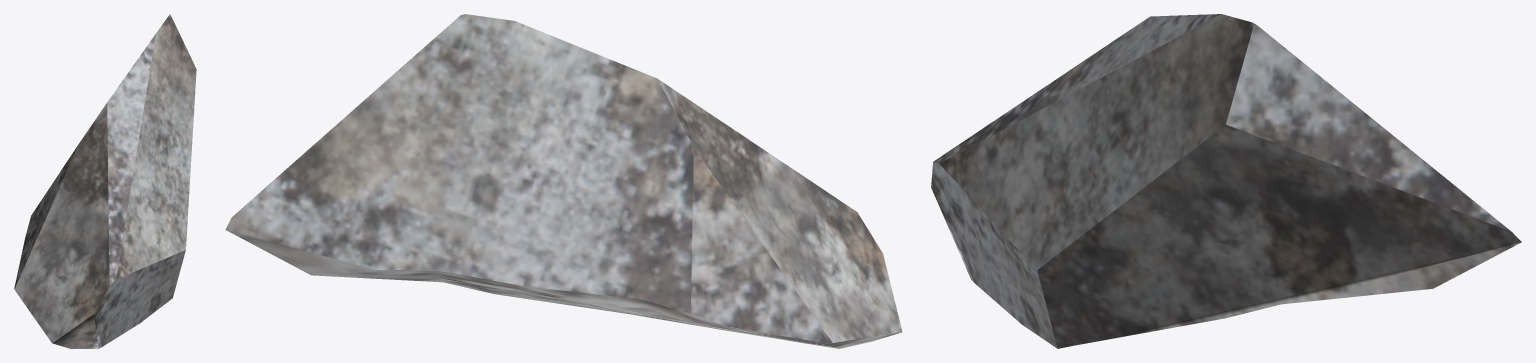
Rendered from Asteroid_Large_001_02_008_03_013.fbx.
3 renders of one model, left to right at view 1: azimuth 30°, elevation 25°; view 2: azimuth 150°, elevation 25°; view 3: azimuth 270°, elevation 25°, orthographic. The views are drawn at different scales.
Visible parts, largest first — view 1: Asteroid_Large_001_02_008_03_013; view 2: Asteroid_Large_001_02_008_03_013; view 3: Asteroid_Large_001_02_008_03_013.
Part boxes in pixels (x1,y1,x2,y2): Asteroid_Large_001_02_008_03_013: (14,14,196,348); Asteroid_Large_001_02_008_03_013: (225,14,902,348); Asteroid_Large_001_02_008_03_013: (931,14,1521,348).
Size of the model in its own units: 6.44 by 5.24 by 7.32.
